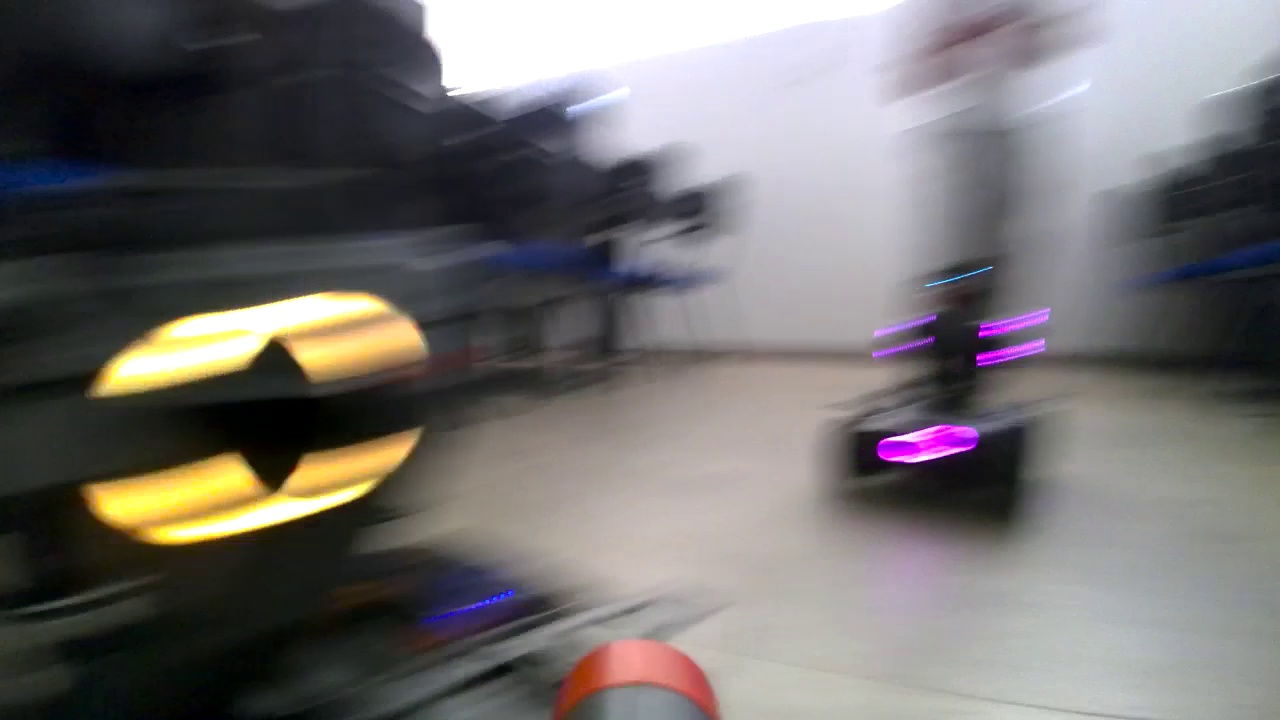robot: (7, 165, 671, 718), (817, 264, 1033, 503)
